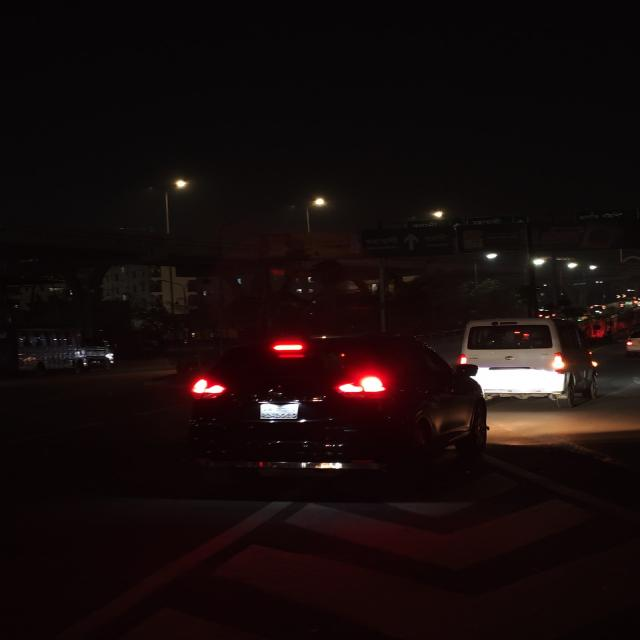car: (172, 330, 488, 480), (456, 315, 603, 409), (622, 323, 640, 361)
truck: (457, 316, 604, 408)
